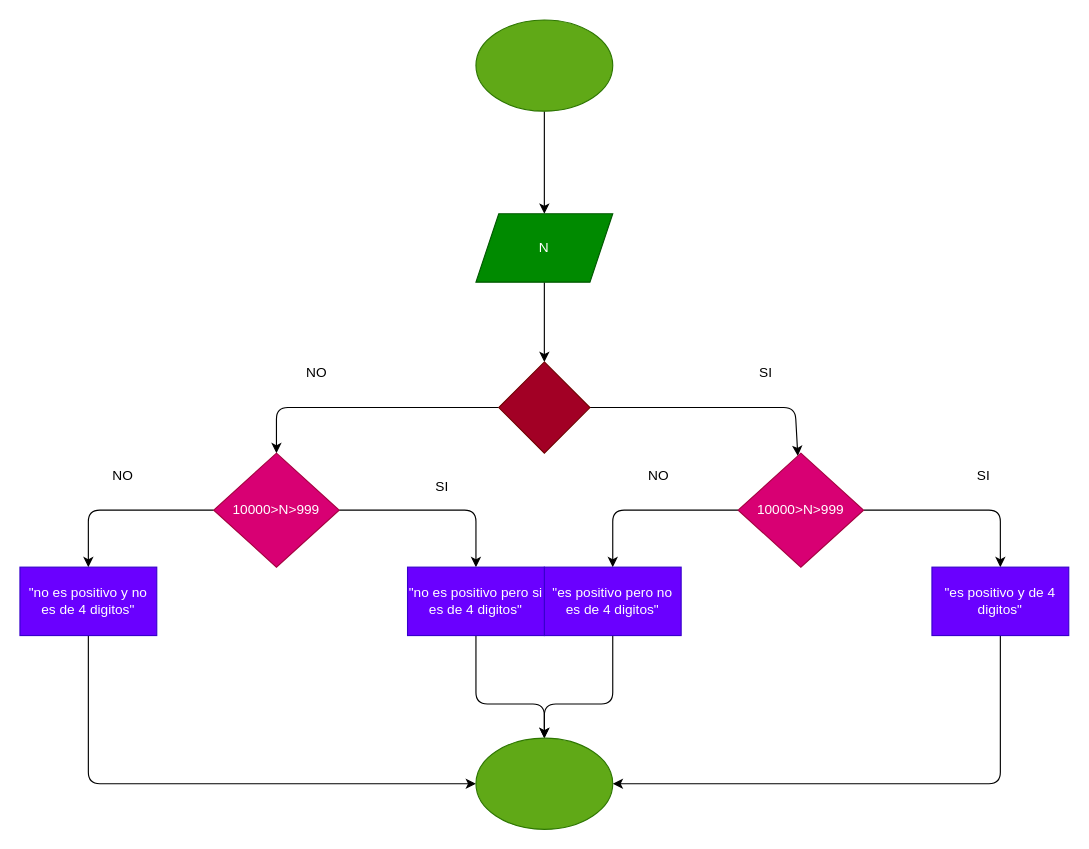
Some shapes in this 1089 by 849 pixel diagram are drawn without their labels. Here are the shapes that lost their labels. From the top down, the centre of each, then its label:
At point 544,65: "INICIO".
At point 544,407: "N>0".
At point 544,783: "FIN".
